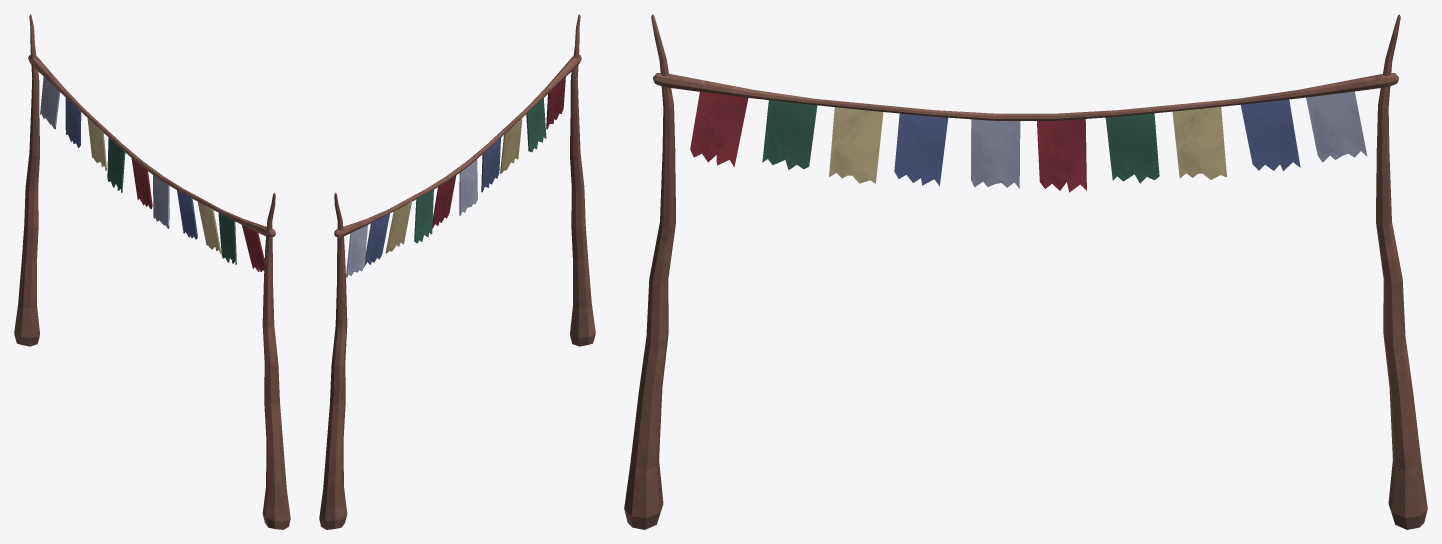
File: PrayerFlags.fbx
The picture shows the model from 3 angles, left to right: view 1: azimuth 30°, elevation 25°; view 2: azimuth 150°, elevation 25°; view 3: azimuth 270°, elevation 25°; orthographic projection. The views are drawn at different scales.
Visible parts, largest first — view 1: banner; view 2: banner; view 3: banner.
Part boxes in pixels (box(x1,y1,x2,y2)): banner: box(14, 14, 290, 529); banner: box(319, 14, 595, 529); banner: box(624, 14, 1427, 529).
Bounding box in the file's own units: 129 × 1722 × 2451.
